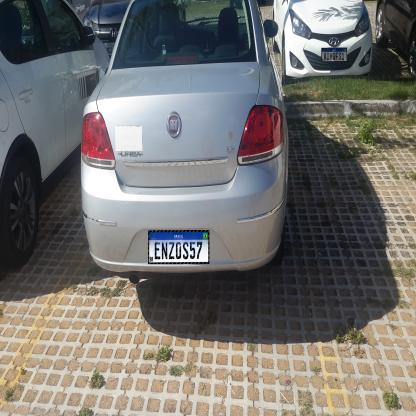PlacaM: (148, 230, 210, 264), (321, 48, 347, 62)
